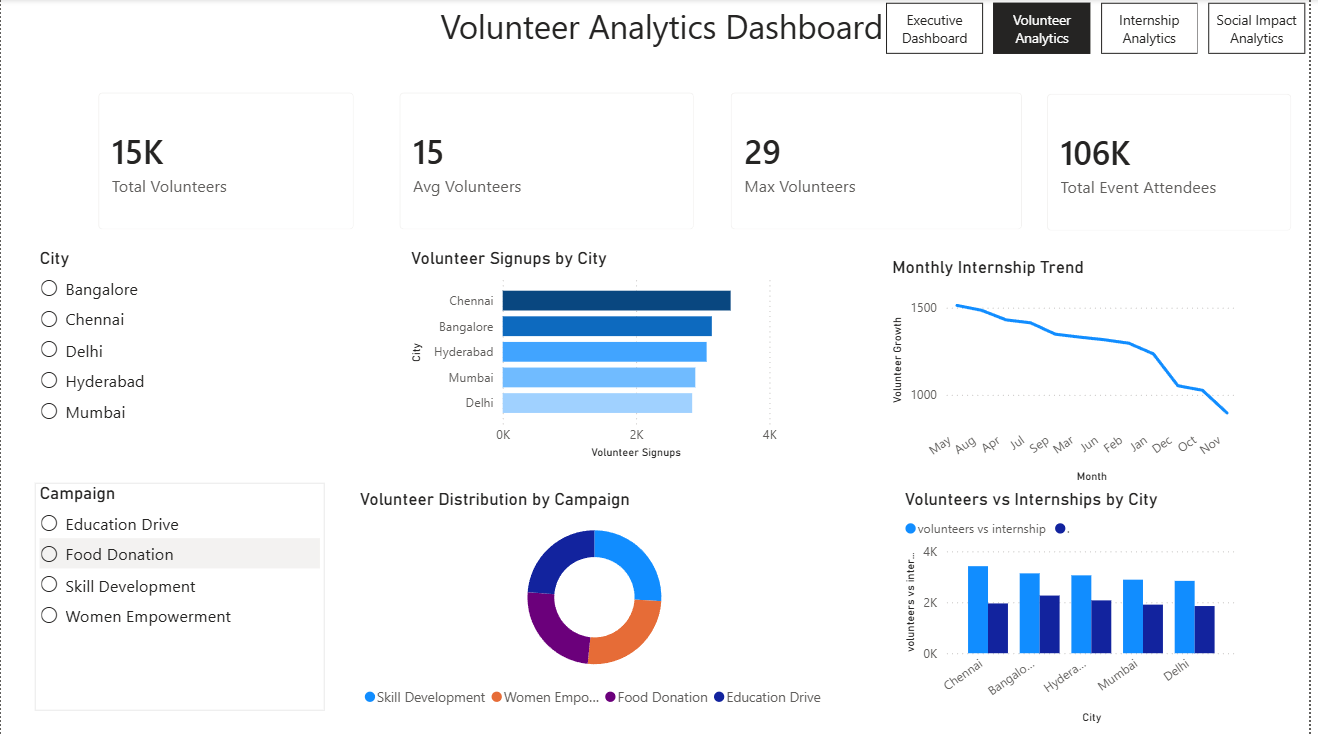

What the dashboard file says about the page in this screenshot:
{"tool":"powerbi","page":{"name":"Volunteer Analytics","canvas":[1280,720],"ordinal":1},"visuals":[{"type":"textbox","box":[190.7,0,911.2,57.6],"z":0},{"type":"cardVisual","fields":{"Data":["Sheet1.Total Volunteers"]},"box":[78.2,74.1,284,168.8],"z":1},{"type":"cardVisual","fields":{"Data":["Sheet1.Avg Volunteers"]},"box":[373.2,74.1,322.5,168.8],"z":2},{"type":"cardVisual","fields":{"Data":["Sheet1.Max Volunteers"]},"box":[697.1,74.1,319.7,168.8],"z":3},{"type":"cardVisual","fields":{"Data":["Sheet1.Total Event Attendees"]},"box":[1006.9,75.5,273.1,168.8],"z":4},{"type":"barChart","fields":{"Category":["Sheet1.City"],"Y":["Sum(Sheet1.Volunteer_Signups)"]},"box":[396.6,242.9,367.8,211.3],"z":5},{"type":"lineChart","title":"Monthly Internship Trend","fields":{"Y":["Sum(Sheet1.Volunteer_Signups)"],"Category":["Sheet1.Month"]},"box":[867.2,252.5,347.2,226.4],"z":6},{"type":"donutChart","fields":{"Category":["Sheet1.Campaign"],"Y":["Sum(Sheet1.Volunteer_Signups)"]},"box":[345.8,478.9,469.3,222.3],"z":7},{"type":"clusteredColumnChart","title":"Volunteers vs Internships by City","fields":{"Category":["Sheet1.City"],"Y":["Sum(Sheet1.Volunteer_Signups)","Sum(Sheet1.Internship_Applications)"]},"box":[879.6,478.9,334.8,234.6],"z":8},{"type":"listSlicer","fields":{"Values":["Sheet1.City"]},"box":[32.9,242.9,284,211.3],"z":9},{"type":"listSlicer","fields":{"Values":["Sheet1.Campaign"]},"box":[32.9,473.4,284,222.3],"z":10},{"type":"pageNavigator","box":[865.8,3.7,413.3,50.1],"z":11}]}

Visuals, with their boxes in screenshot pixels (x1, y1, x2, y2), scaled from the page's 1280x720 canvas onto the 1318x735 screenshot:
textbox: select_region(196, 0, 1135, 59)
cardVisual - Sheet1.Total Volunteers: select_region(81, 76, 373, 248)
cardVisual - Sheet1.Avg Volunteers: select_region(384, 76, 716, 248)
cardVisual - Sheet1.Max Volunteers: select_region(718, 76, 1047, 248)
cardVisual - Sheet1.Total Event Attendees: select_region(1037, 77, 1317, 249)
barChart - Sheet1.City x Sum(Sheet1.Volunteer_Signups): select_region(408, 248, 787, 464)
"Monthly Internship Trend" lineChart: select_region(893, 258, 1250, 489)
donutChart - Sheet1.Campaign x Sum(Sheet1.Volunteer_Signups): select_region(356, 489, 839, 716)
"Volunteers vs Internships by City" clusteredColumnChart: select_region(906, 489, 1250, 728)
listSlicer - Sheet1.City: select_region(34, 248, 326, 464)
listSlicer - Sheet1.Campaign: select_region(34, 483, 326, 710)
pageNavigator: select_region(892, 4, 1317, 55)
